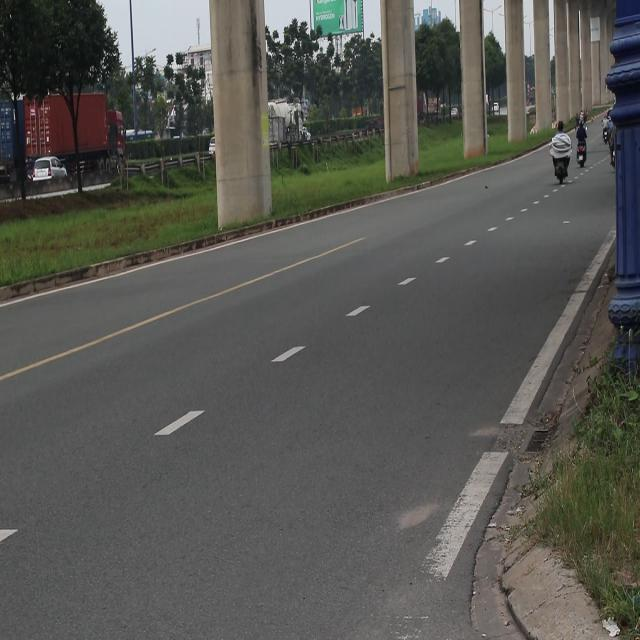car: (29, 156, 69, 182)
motorbike: (551, 153, 570, 190), (609, 142, 629, 174), (574, 139, 590, 177), (597, 116, 612, 150)
truck: (0, 92, 127, 184)
